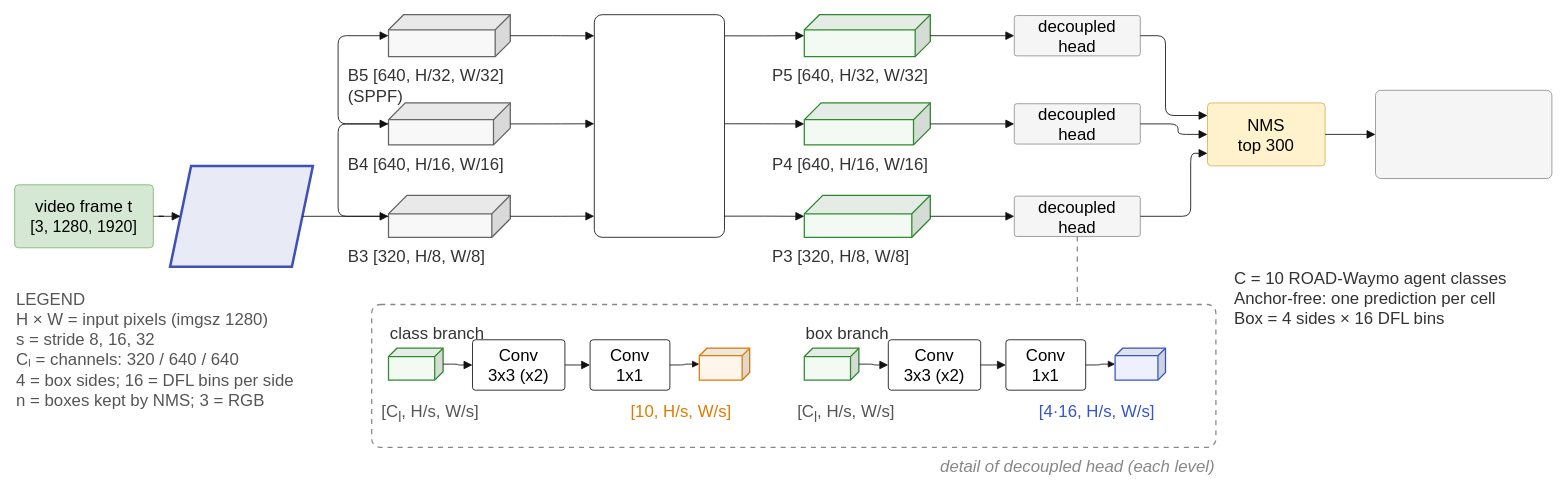
This 1567x491 diagram has some shape labels left out. Here are the shapes that lost their labels. From the top down, the box of each, then its label:
(593, 14, 724, 237): PAN-FPN neck (C2f fusion, top-down + bottom-up)
(1375, 89, 1552, 178): boxes [n,4], conf, agent class; up to 300 per frame
(168, 164, 314, 268): CSPDarknet backbone
